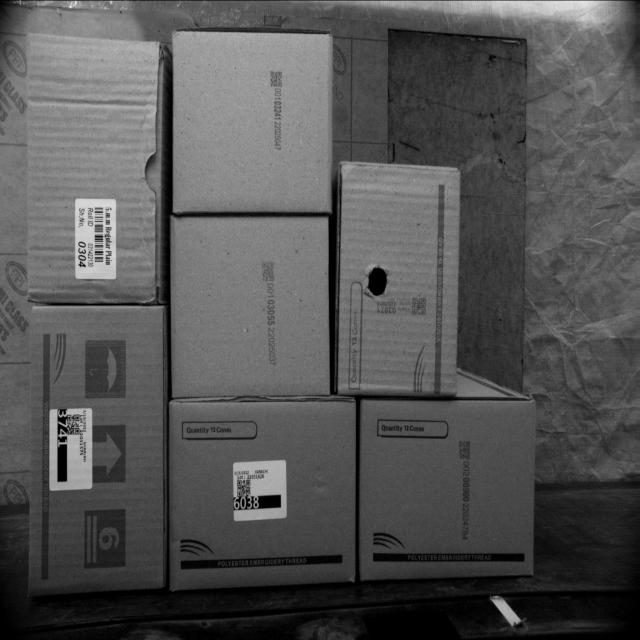cardboxes: (31, 306, 168, 598), (25, 30, 163, 307), (165, 397, 358, 588), (359, 397, 536, 578), (172, 29, 333, 217), (169, 217, 332, 400), (339, 163, 458, 398)
